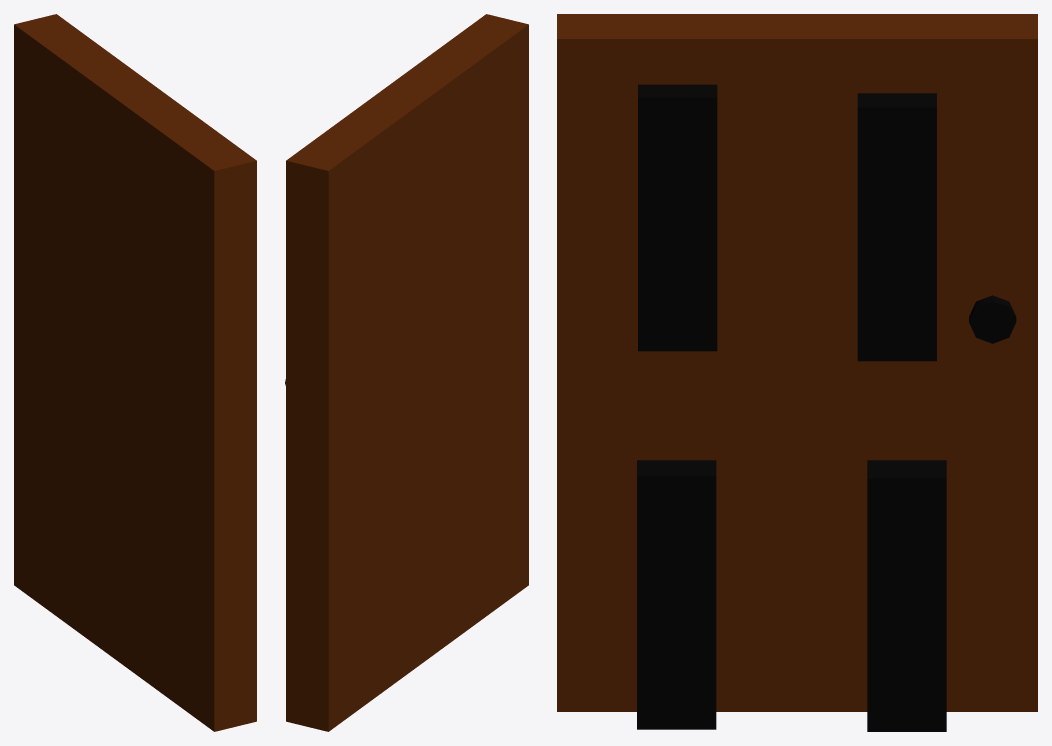
Rendered from Door.obj.
3 views of the same model, side by side, from view 1: azimuth 30°, elevation 25°; view 2: azimuth 150°, elevation 25°; view 3: azimuth 270°, elevation 25° (orthographic). The views are drawn at different scales.
Visible parts, largest first — view 1: Door_0; view 2: Door_0; view 3: Door_0, Door_1, Door_2.
Boxes of the visible parts, x1,y1,x2,y2 form: Door_0: (14,14,256,731); Door_0: (286,14,528,731); Door_0: (557,14,1037,711); Door_1: (637,84,1016,731); Door_2: (969,301,1015,343).
Size of the model in its own units: 0.95 by 6.95 by 4.49.
